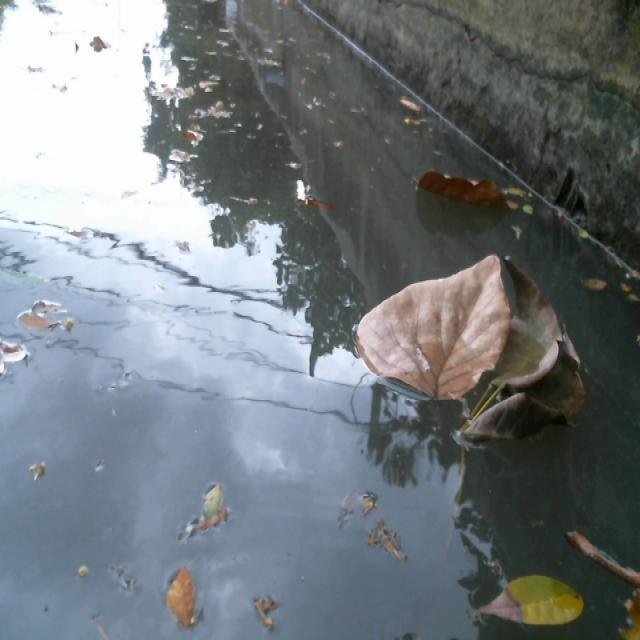Big-leaf: (338, 250, 585, 453), (416, 147, 520, 225), (584, 522, 640, 640)
Small-leaf: (0, 281, 74, 389), (475, 563, 585, 633), (180, 453, 242, 552), (158, 568, 206, 634), (544, 204, 603, 253), (609, 271, 640, 350), (237, 583, 281, 638), (172, 119, 218, 167), (285, 189, 346, 225), (393, 87, 433, 134), (579, 275, 606, 304)
